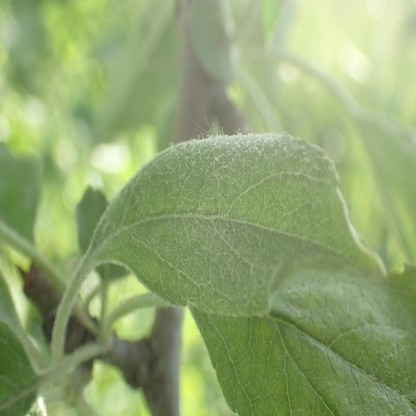powdery_mildew: (91, 132, 388, 314), (187, 263, 416, 416)
